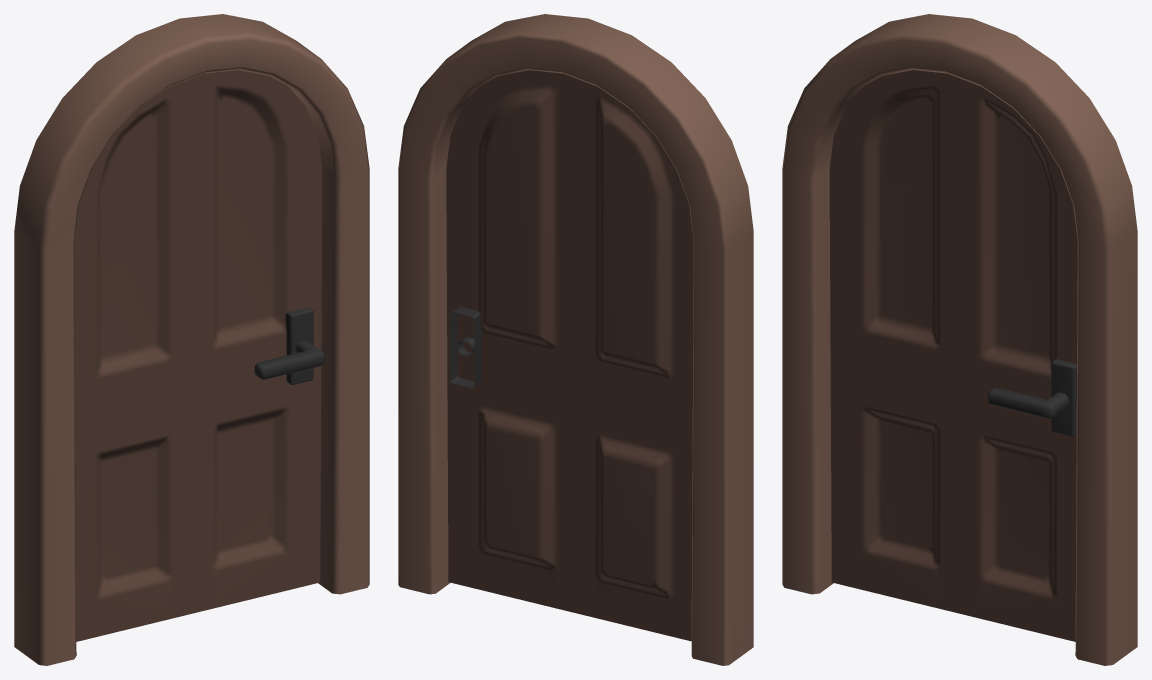
The model's file is door_closed.gltf.
3 renders of one model, left to right at view 1: azimuth 30°, elevation 25°; view 2: azimuth 150°, elevation 25°; view 3: azimuth 330°, elevation 25°, orthographic.
Parts seen in each view (by area): view 1: Plane, Cube.001, Cube.003; view 2: Plane, Cube.001, Cube.003; view 3: Plane, Cube.001, Cube.003.
Part boxes in pixels (x1=…): Plane: x1=74, y1=70, x2=322, y2=641; Cube.001: x1=14, y1=14, x2=369, y2=665; Cube.003: x1=254, y1=307, x2=324, y2=385; Plane: x1=446, y1=70, x2=693, y2=641; Cube.001: x1=398, y1=14, x2=753, y2=665; Cube.003: x1=450, y1=306, x2=481, y2=387; Plane: x1=829, y1=70, x2=1077, y2=641; Cube.001: x1=782, y1=14, x2=1137, y2=665; Cube.003: x1=988, y1=359, x2=1076, y2=437.
Size of the model in its own units: 1.45 by 2.46 by 0.2749.
